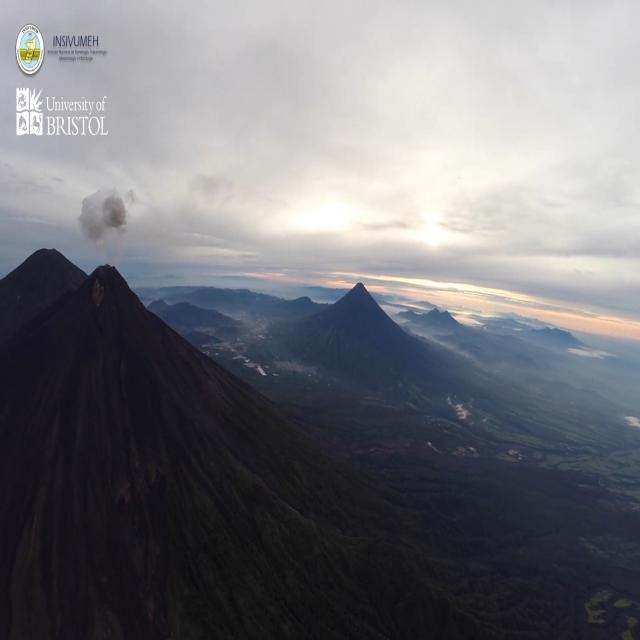Plume: (75, 186, 144, 252)
Summit: (62, 260, 144, 322)
